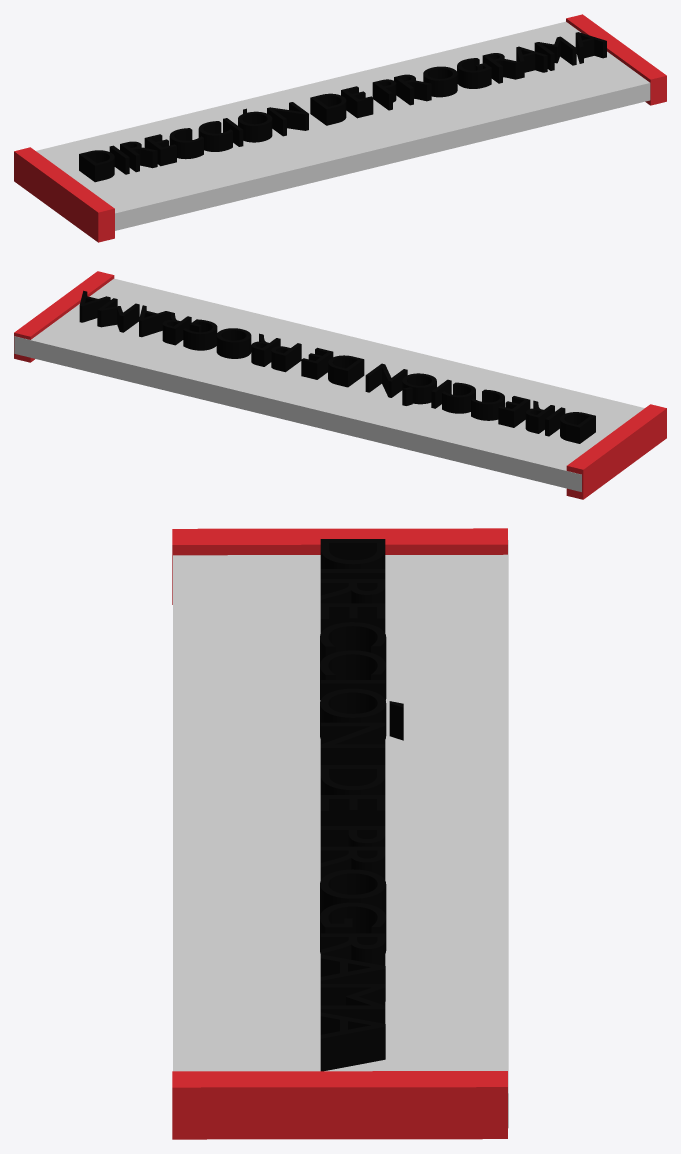
File: DireccionPrograma.fbx
The picture shows the model from 3 angles, top to bottom: view 1: azimuth 30°, elevation 25°; view 2: azimuth 150°, elevation 25°; view 3: azimuth 270°, elevation 25°; orthographic projection. The views are drawn at different scales.
Parts seen in each view (by area): view 1: Cube, Texto.001, Cubo, Cubo.001; view 2: Cube, Texto.001, Cubo, Cubo.001; view 3: Cube, Texto.001, Cubo.001, Cubo.
Part boxes in pixels (x1,y1,x2,y2): Cube: (36,21,650,230); Texto.001: (79,32,606,182); Cubo: (14,147,114,242); Cubo.001: (566,14,666,105); Cube: (14,278,644,491); Texto.001: (79,290,595,443); Cubo: (566,404,666,499); Cubo.001: (14,271,114,362); Cube: (173,540,508,1128); Texto.001: (320,539,403,1071); Cubo.001: (172,1071,507,1139); Cubo: (172,528,507,604).
Bounding box in the file's own units: 783 × 54.42 × 200.
